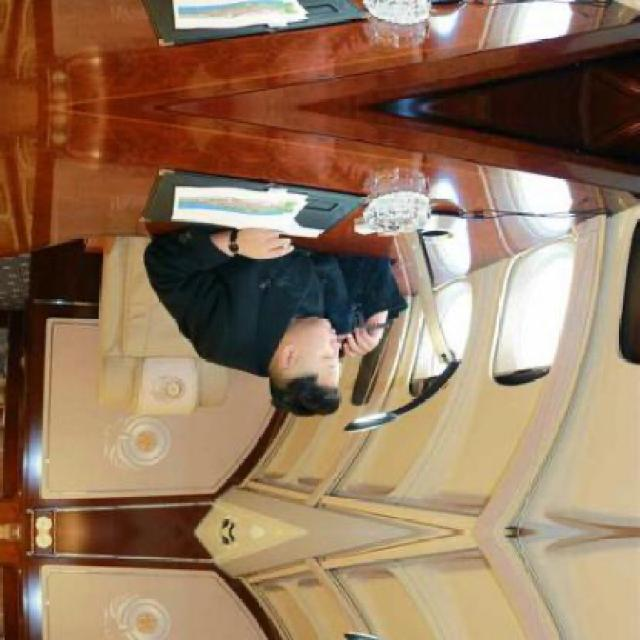sin casco: (204, 266, 366, 420)
